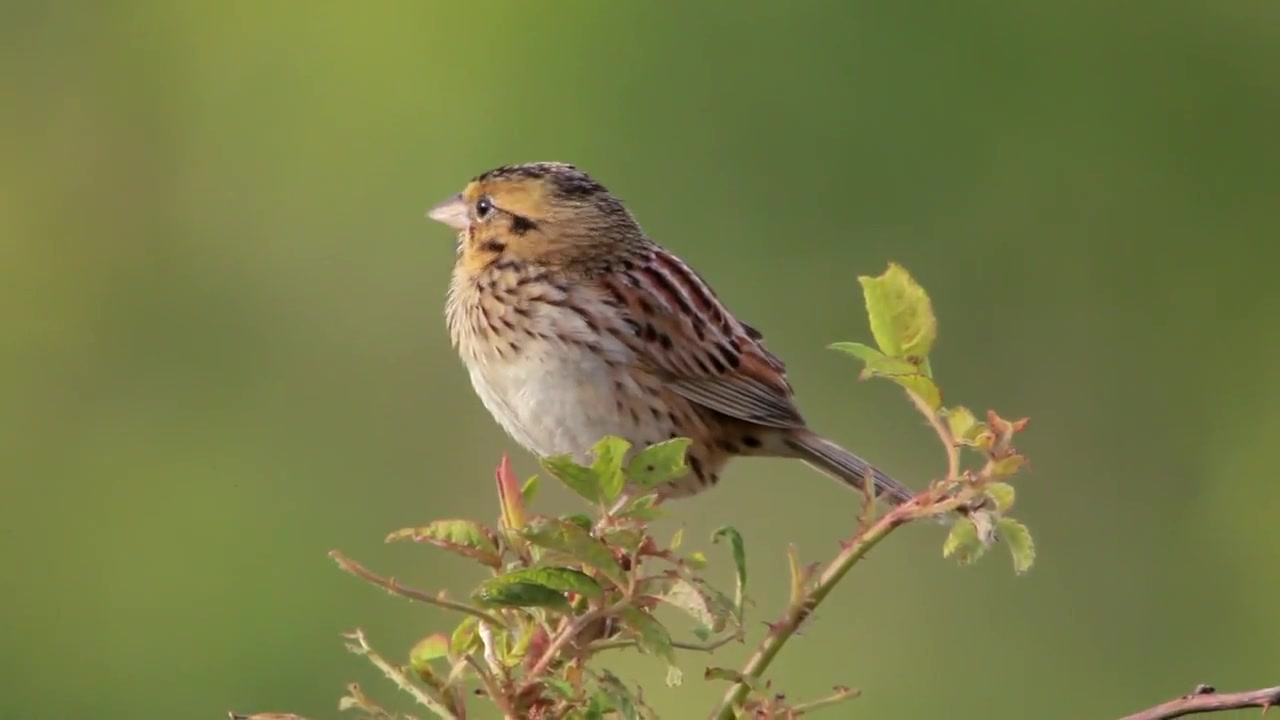bird: (427, 160, 933, 519)
